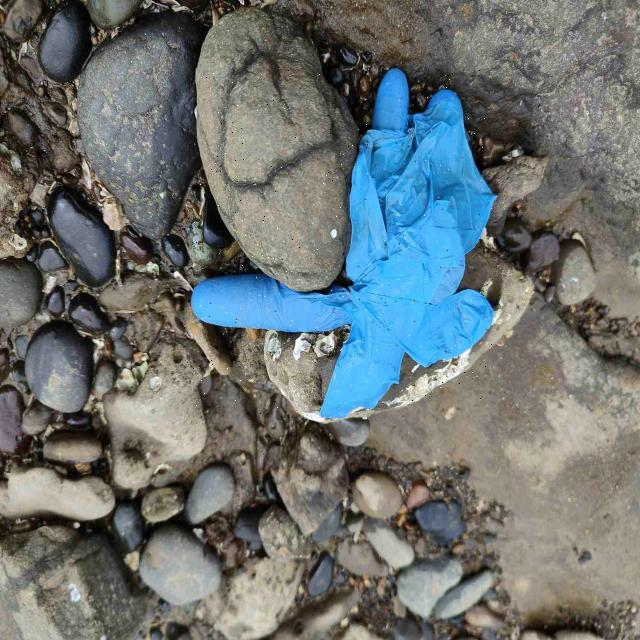plastic: (194, 68, 495, 420)
